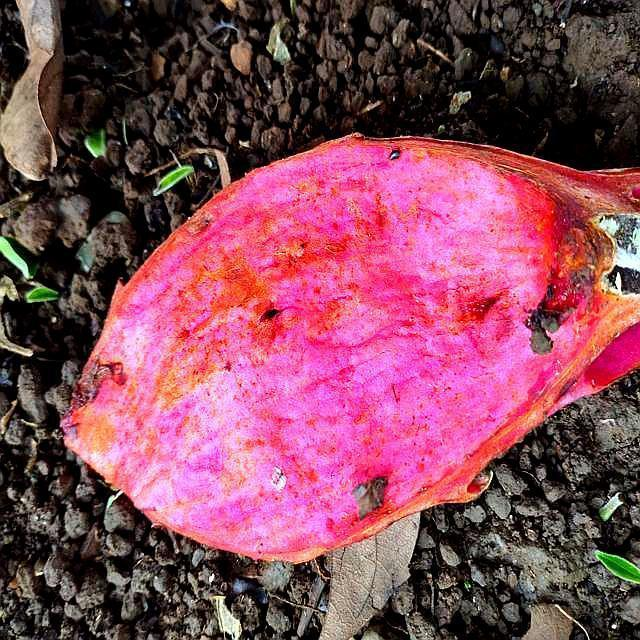Biodegradable: (71, 137, 640, 563)
